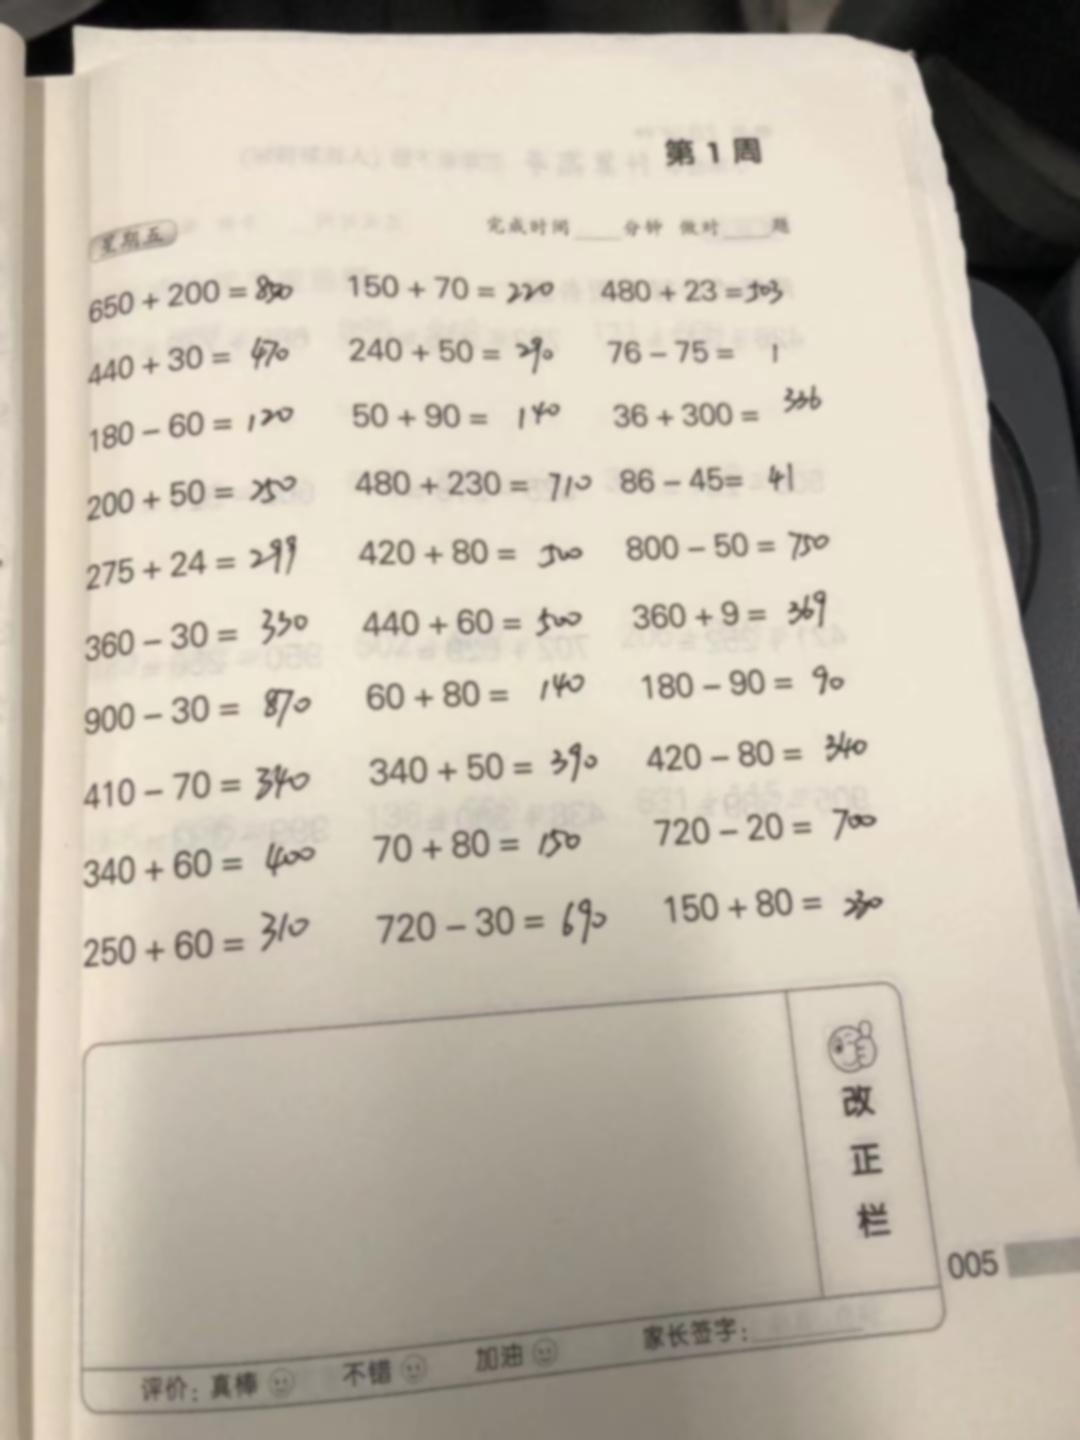equation: (67, 903, 336, 979), (371, 888, 625, 962), (77, 533, 337, 601), (76, 828, 331, 895), (79, 467, 330, 535), (79, 678, 341, 742), (74, 753, 324, 816), (77, 604, 331, 664), (653, 878, 910, 935), (641, 725, 891, 783), (653, 799, 917, 855), (351, 525, 605, 582), (364, 815, 608, 873), (76, 336, 322, 392), (348, 459, 610, 510), (81, 404, 334, 456), (76, 276, 327, 328), (639, 658, 874, 713), (362, 742, 616, 793), (348, 328, 584, 382), (611, 384, 836, 438), (627, 588, 857, 639), (344, 262, 567, 313), (362, 672, 607, 718), (348, 395, 596, 438), (356, 605, 607, 647), (625, 520, 844, 565), (601, 330, 807, 375), (596, 268, 807, 310), (614, 456, 816, 499)
